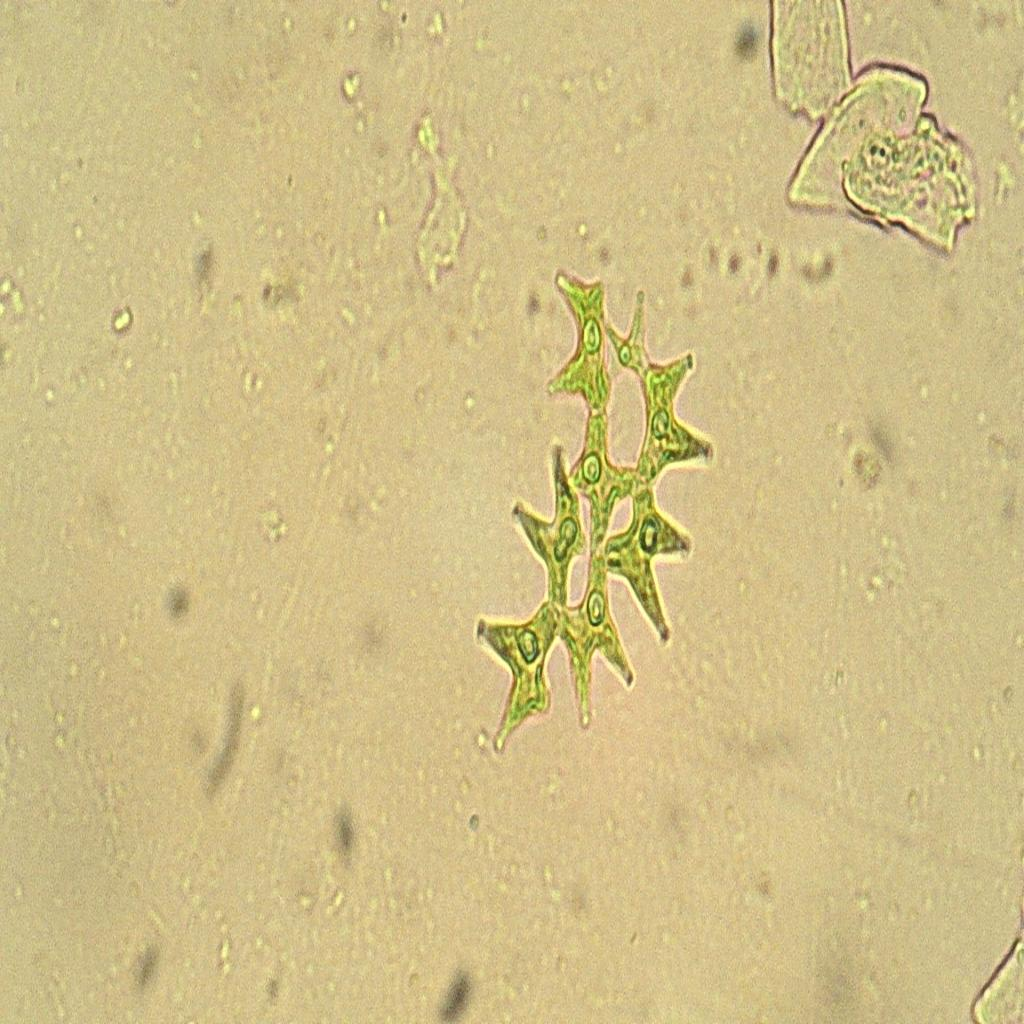Pediastrum_1TH: (460, 222, 724, 780)
